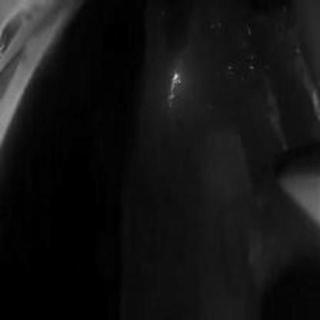Fire: (166, 69, 184, 107)
